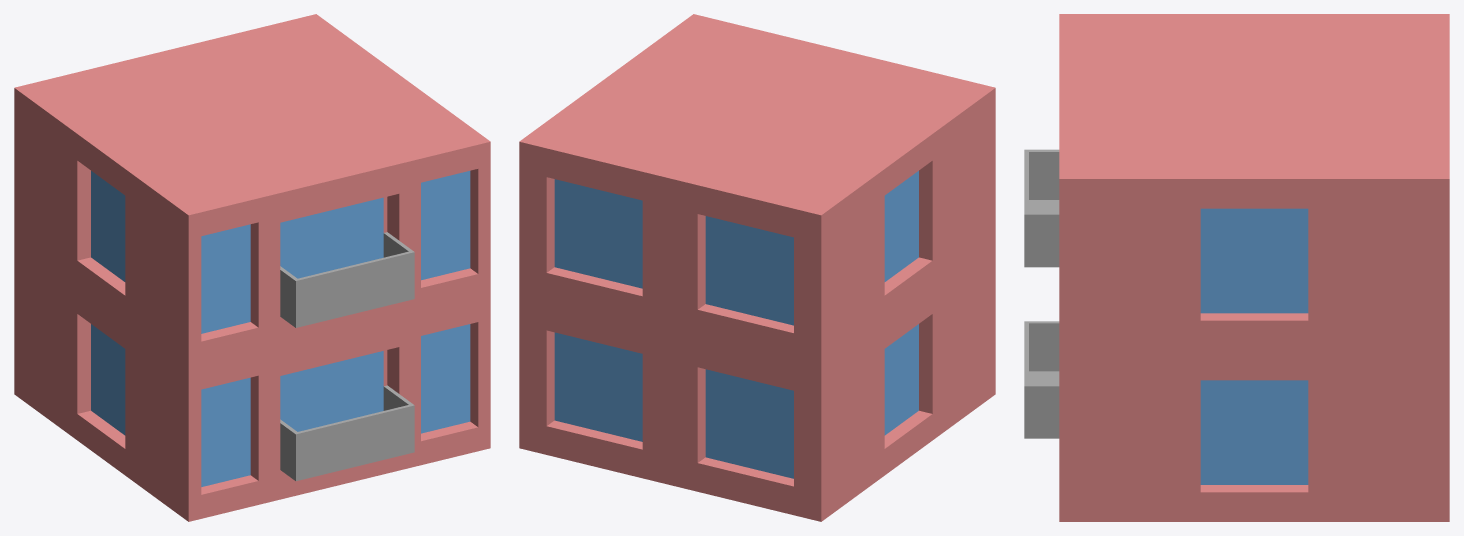
Rendered from building_1x1_5_f.glb.
3 renders of one model, left to right at view 1: azimuth 30°, elevation 25°; view 2: azimuth 150°, elevation 25°; view 3: azimuth 270°, elevation 25°, orthographic. The views are drawn at different scales.
Visible parts, largest first — view 1: Cube.001; view 2: Cube.001; view 3: Cube.001.
Boxes of the visible parts, x1,y1,x2,y2 form: Cube.001: (14,14,490,521); Cube.001: (519,14,995,521); Cube.001: (1024,14,1449,521).
Bounding box in the file's own units: 1.65 × 1.6 × 1.8.
